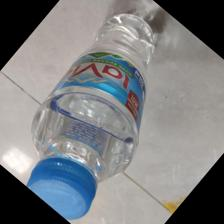Lavie: (24, 12, 157, 223)
